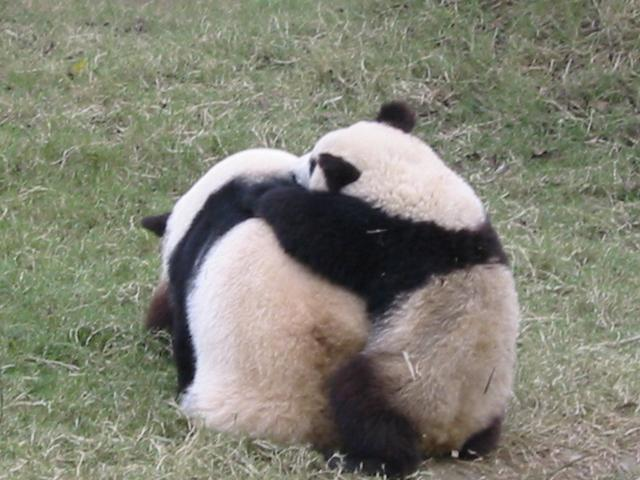panda: (259, 86, 506, 480)
